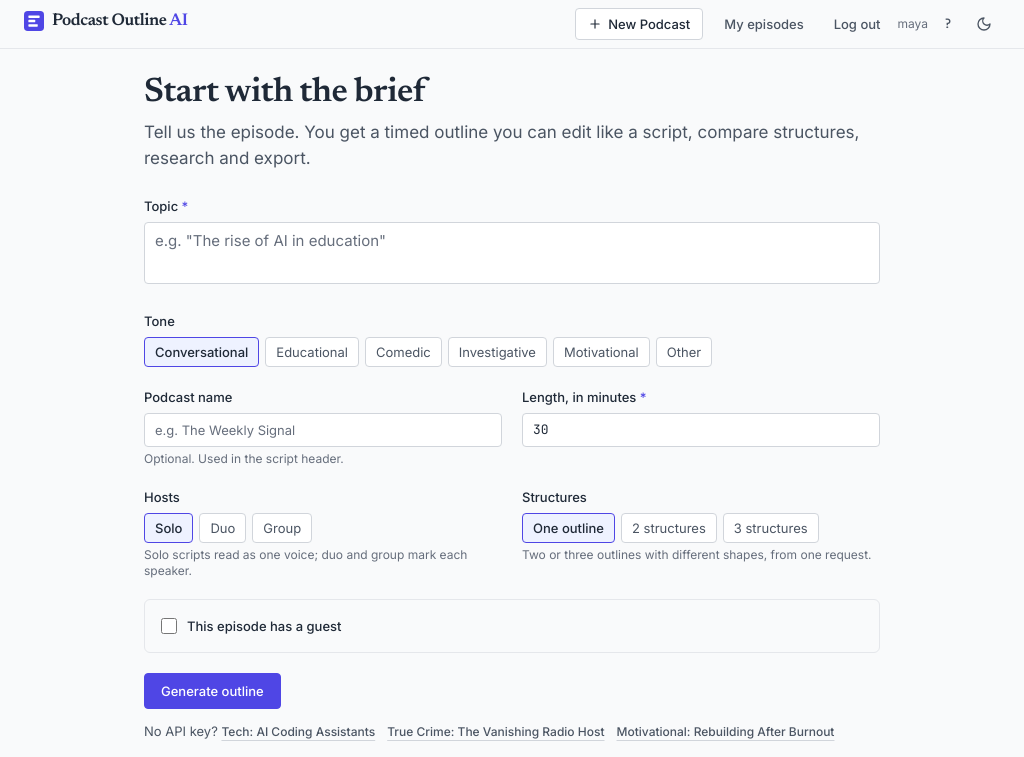
logging out › from the real app: lands on "/", replaces the history entry, and the next visit to /app is empty
Expected: the button "Log out" is shown, [821,8,894,40]
Type "Jazz" into the text box labelled "Topic *" at point(512, 253), box [144,222,880,284]
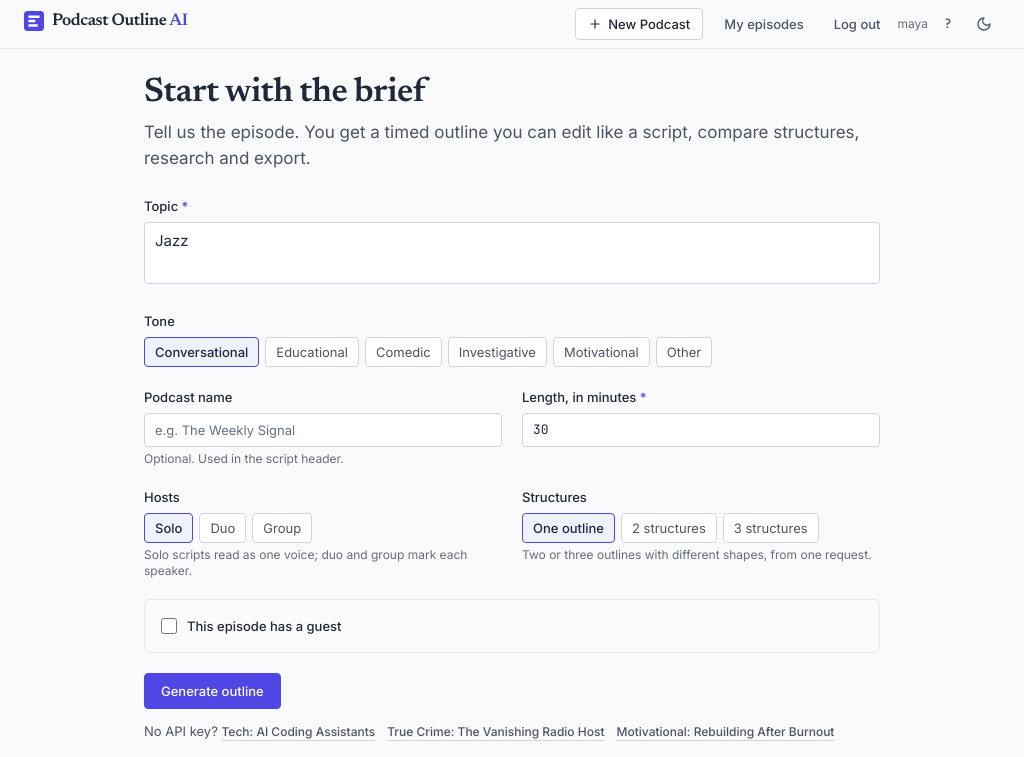
Click the button "Generate outline" at point(212, 691), box [144,673,281,709]
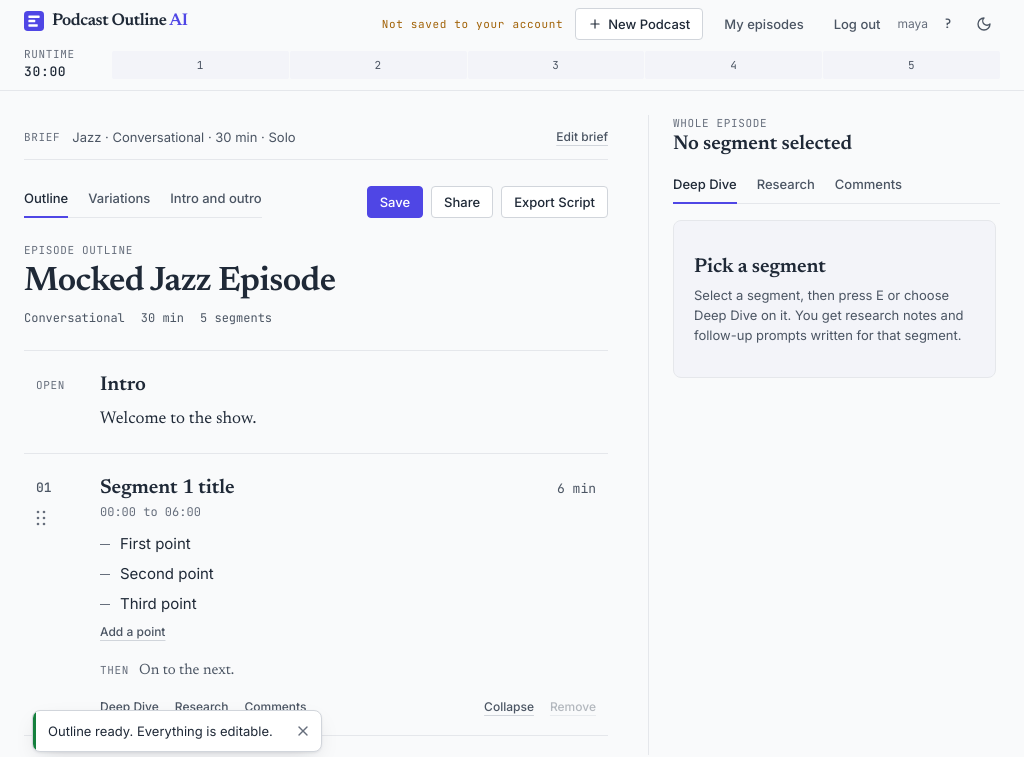
Now the button "Mocked Jazz Episode" is shown, box [24,262,608,302]
Click the button "Log out" at point(857, 24), box [821,8,894,40]
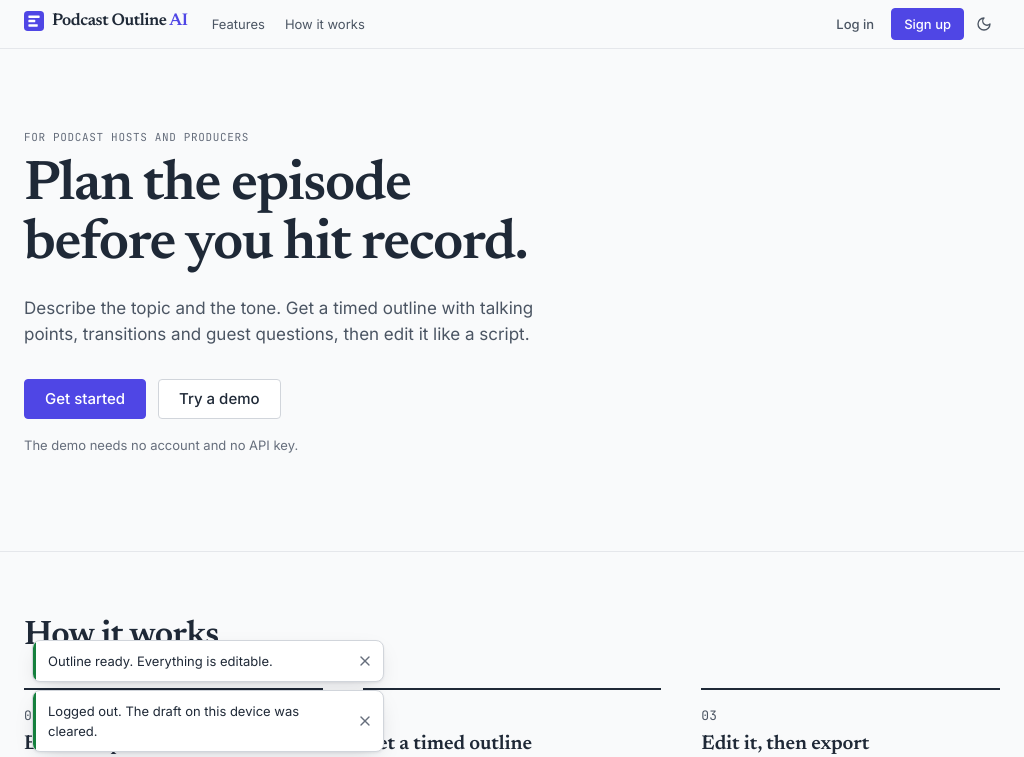
Now the heading "Plan the episode before you hit record." is shown, box [24,157,571,275]
Now the button "Mocked Jazz Episode" is gone
Click the link "Get started" at point(85, 399), box [24,379,146,419]
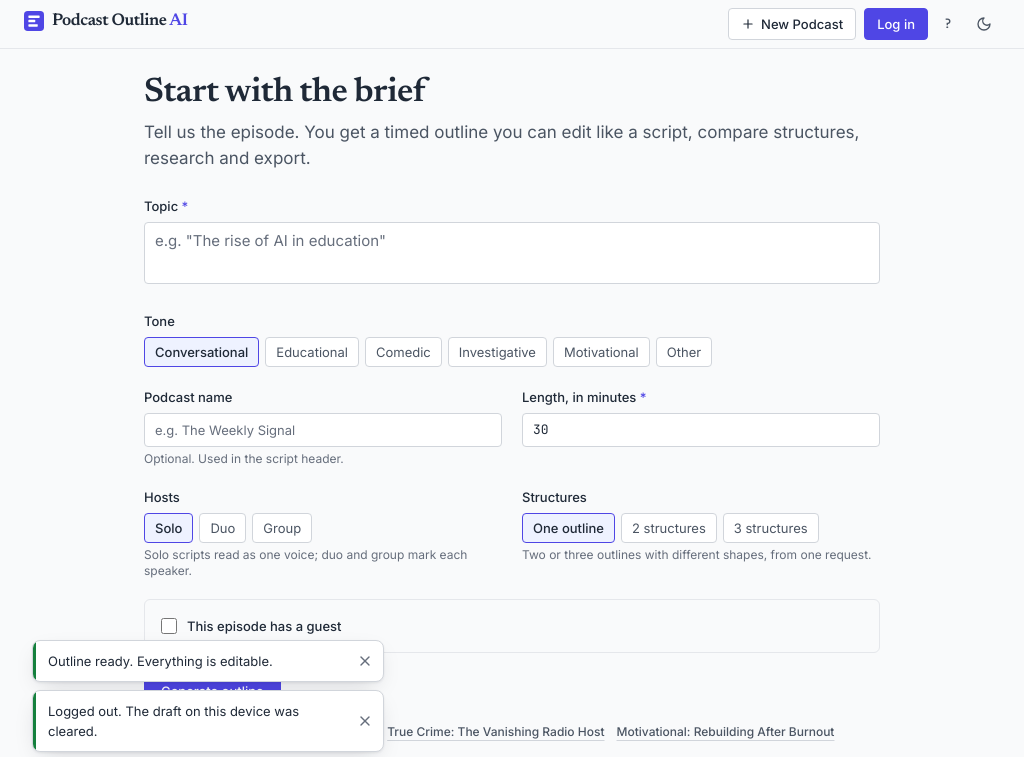
Now the heading "Start with the brief" is shown, box [144,76,425,110]
Now the text box labelled "Topic *" is empty, box [144,222,880,284]
